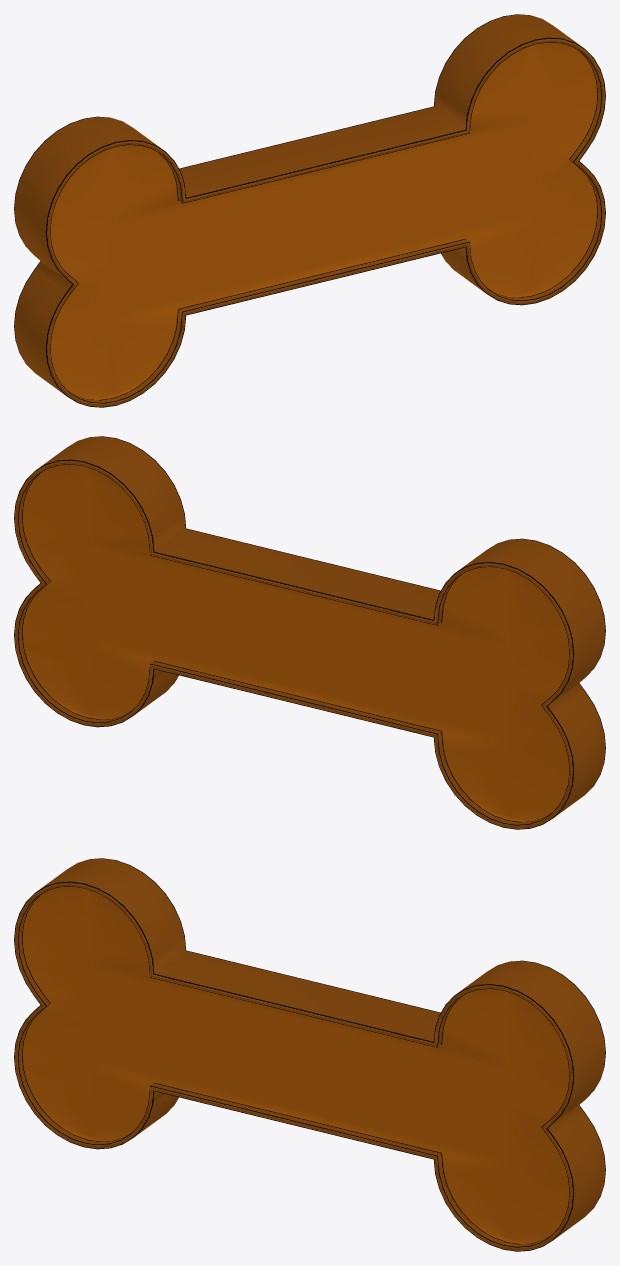
File: BoneTreat.glb
The picture shows the model from 3 angles, top to bottom: view 1: azimuth 30°, elevation 25°; view 2: azimuth 150°, elevation 25°; view 3: azimuth 330°, elevation 25°; orthographic projection.
Visible parts, largest first — view 1: BoneTreats; view 2: BoneTreats; view 3: BoneTreats.
Part boxes in pixels (<box>): BoneTreats: <box>14,14,605,407</box>; BoneTreats: <box>14,436,605,829</box>; BoneTreats: <box>14,858,605,1251</box>.
Bounding box in the file's own units: 2 × 0.9 × 0.2.
1 material, 1 textured.
